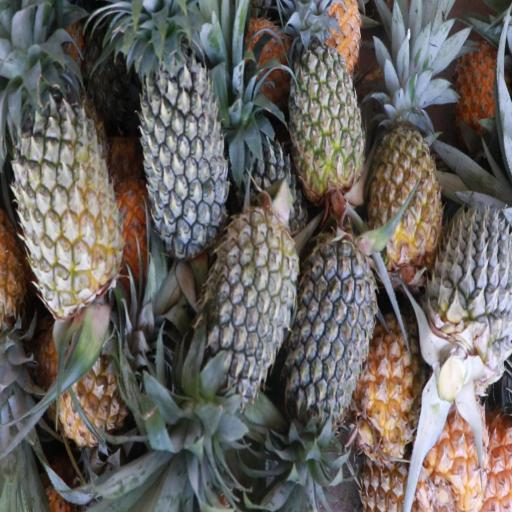------------------------------: (10, 72, 119, 302), (292, 23, 364, 203)
Pineapple - v8 v1: (367, 94, 441, 269), (58, 318, 160, 444), (360, 311, 434, 467), (421, 388, 496, 512)
